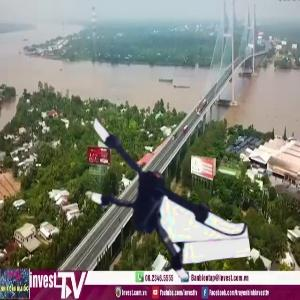drone: (65, 105, 244, 284)
